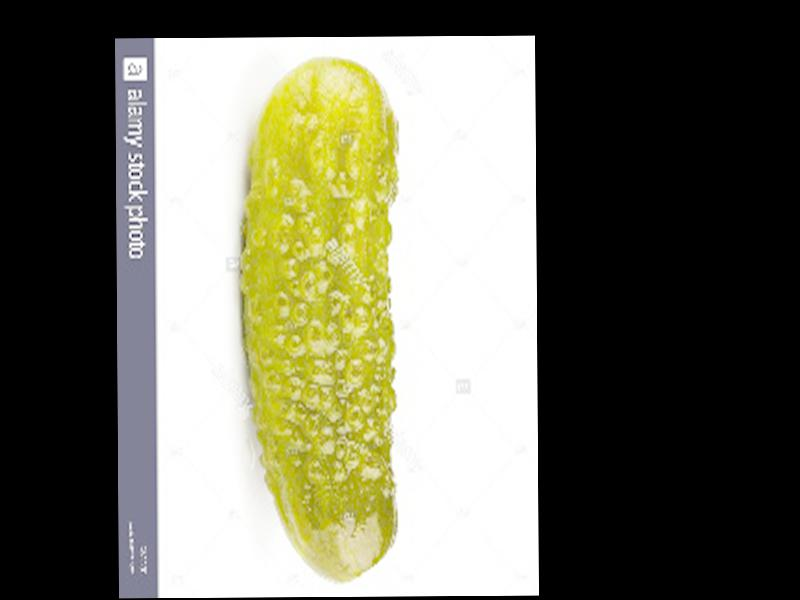Cucumber: (238, 56, 401, 585)
